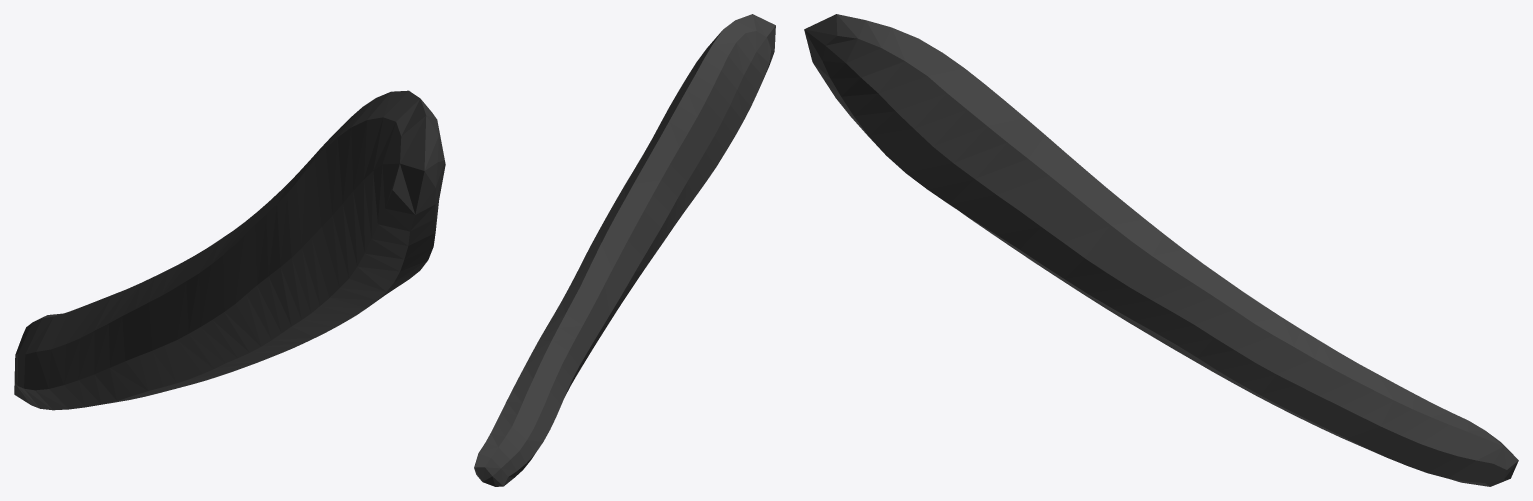
The model's file is Lat_femoropatella_lig.glb.
3 renders of one model, left to right at view 1: azimuth 30°, elevation 25°; view 2: azimuth 150°, elevation 25°; view 3: azimuth 270°, elevation 25°, orthographic. The views are drawn at different scales.
Visible parts, largest first — view 1: Lat_femoropatella_lig; view 2: Lat_femoropatella_lig; view 3: Lat_femoropatella_lig.
Part boxes in pixels (x1,y1,x2,y2): Lat_femoropatella_lig: (14,90,445,410); Lat_femoropatella_lig: (474,14,775,486); Lat_femoropatella_lig: (804,14,1518,486).
Bounding box in the file's own units: 17.92 × 74.34 × 107.
1 material, 1 textured.
